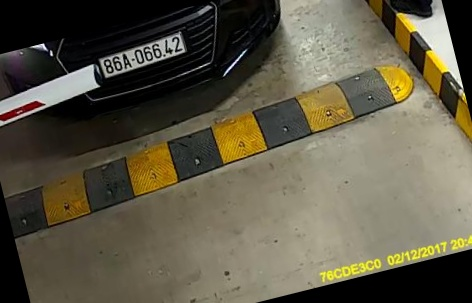plate: (93, 31, 189, 76)
